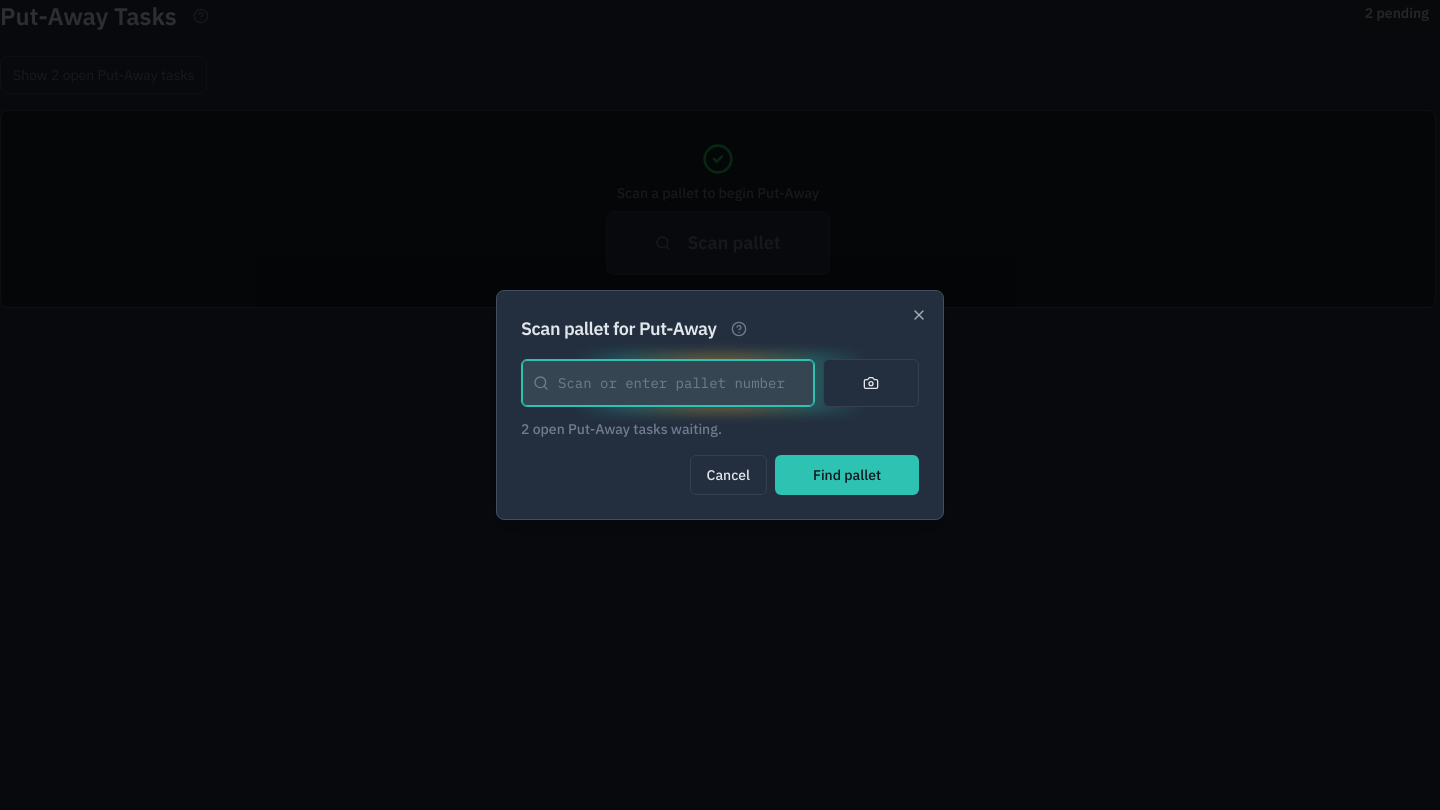
Scenario: PutawayTasksPage scan-first flow › asks mobile scanner users whether to open the scanner first next time
Earlier steps of the test are not shown.
Later steps or results of the test are not shown.
Click the button named "scan pallet barcode". click: point(871, 383)
box: [823, 359, 919, 407]
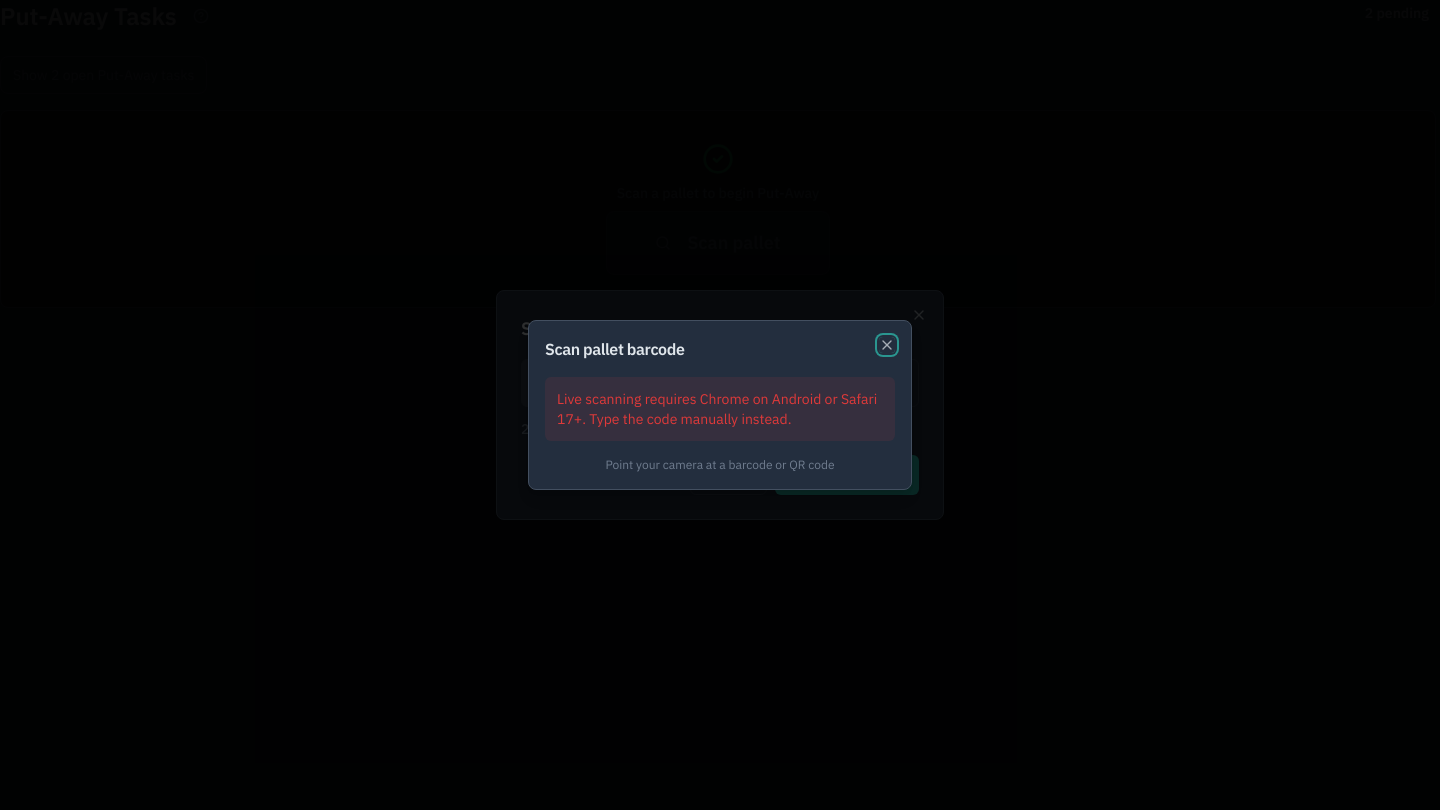
Click the button named "close". click: point(887, 345)
box: [879, 337, 895, 353]
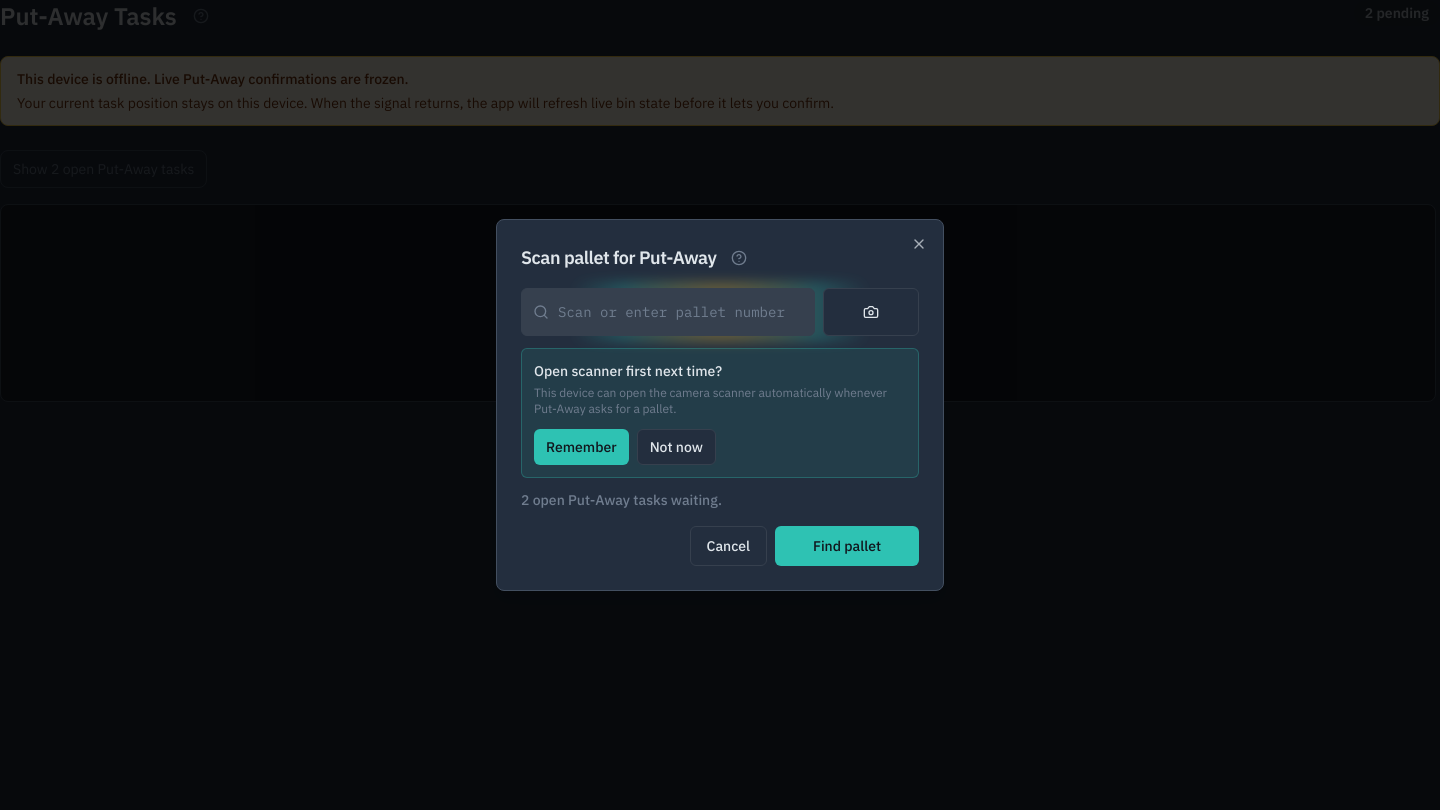
Expected: the text "Open scanner first next time?" is shown, [534, 362, 722, 380]
